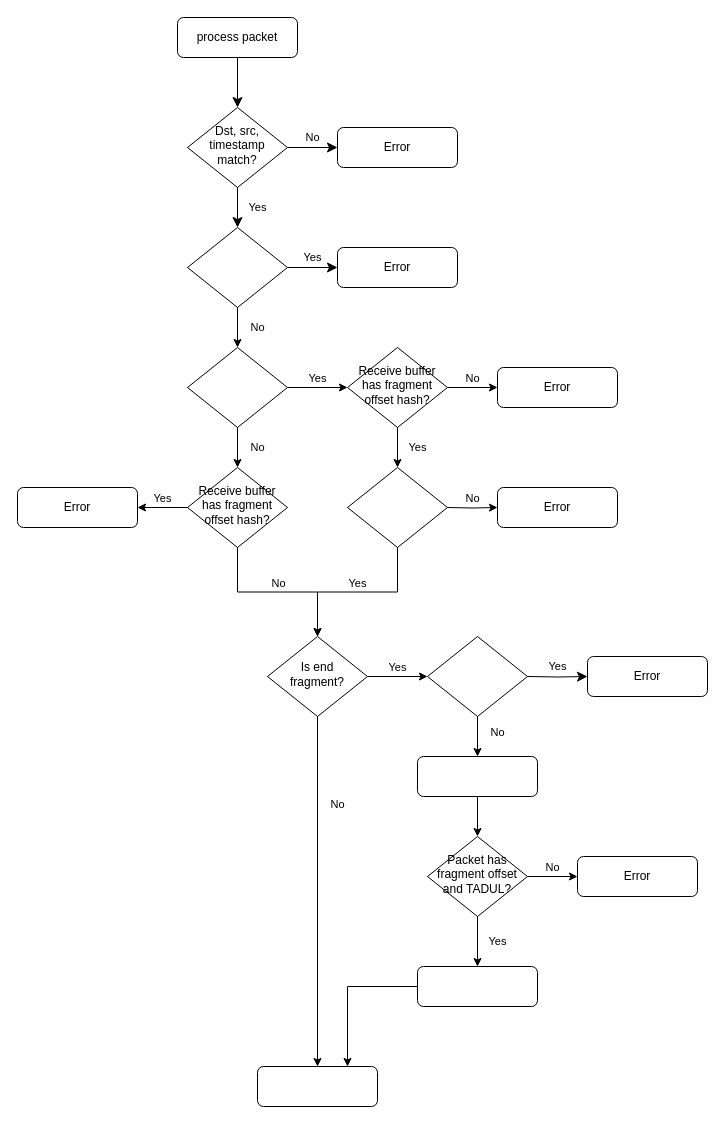
Some shapes in this 725 by 1124 pixel diagram are drawn without their labels. Each missing label, with the box of its shape:
Add to received fragments: (256, 1066, 378, 1106)
Fragment index received before?: (186, 226, 288, 308)
Fragment offset hashes match?: (346, 466, 448, 548)
Packet has bundle fragment offset hash?: (186, 346, 288, 428)
Set fragment offset and TADUL: (416, 966, 538, 1006)
Set total fragments: (416, 756, 538, 796)
Total fragments already set?: (426, 636, 528, 716)
